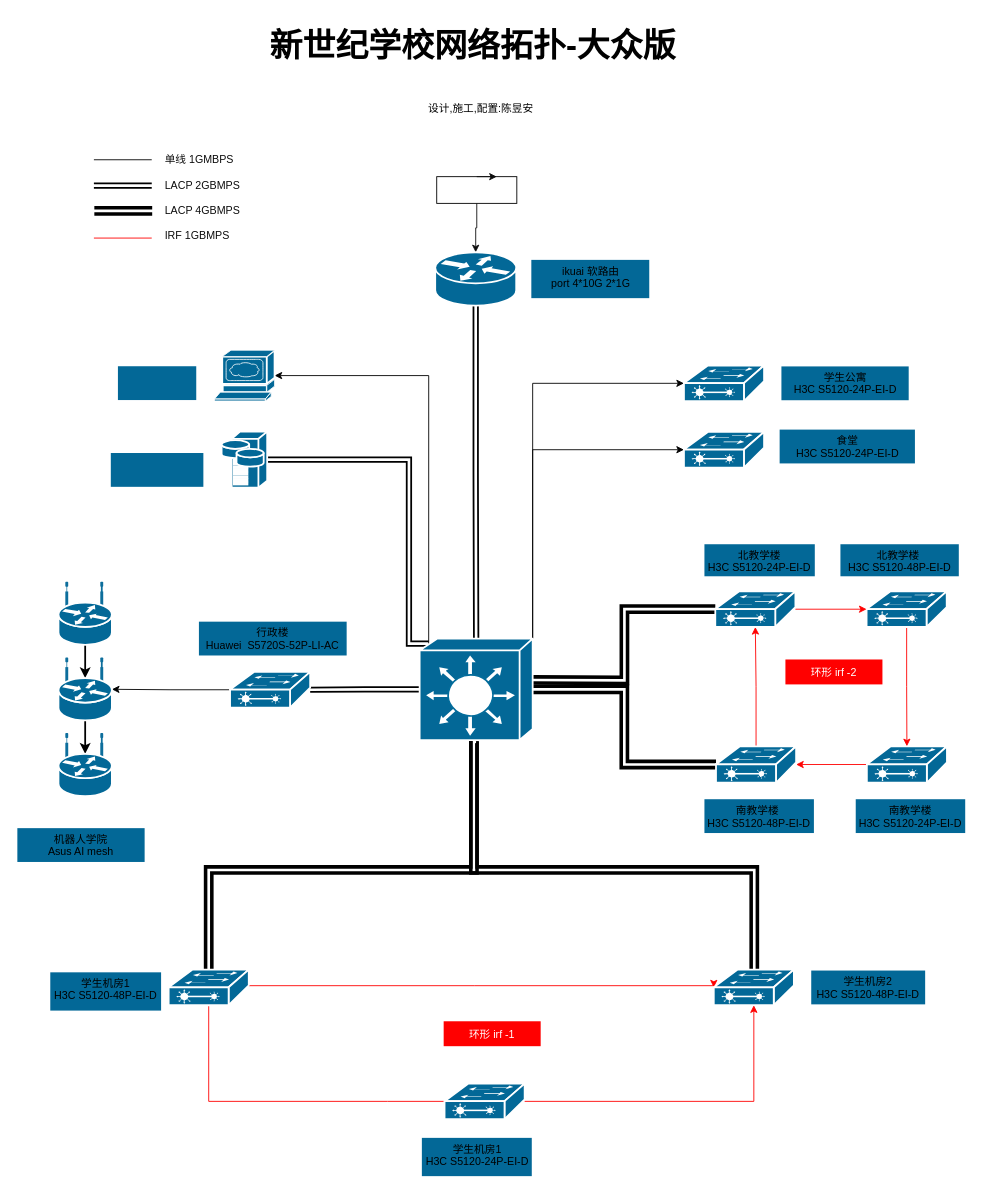
The diagram is 982 pixels wide and 1193 high, and some of its shapes have lost their labels. The box of each missing label's shape, as (x1, y1, x2, y2) in pixels:
TrueNas ZFS2 5 HDD 24T: (109, 451, 205, 488)
ubuntu 20.14 docker 服务器: (116, 364, 198, 401)
教育城域网: (436, 176, 517, 203)
